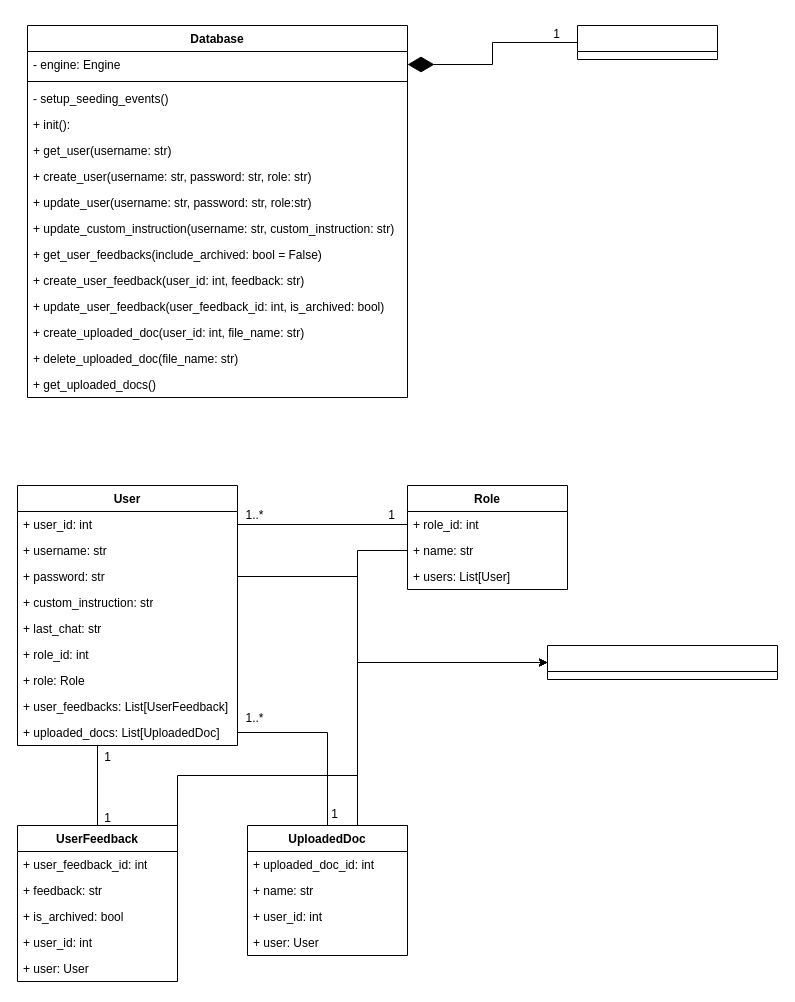
Some shapes in this 795 by 1002 pixel diagram are drawn without their labels. Each missing label, with the centre of its shape:
"sqlalchemy.Engine" belongs at [647,42].
"sqlalchemy.orm.DeclarativeBase" belongs at [662,662].
